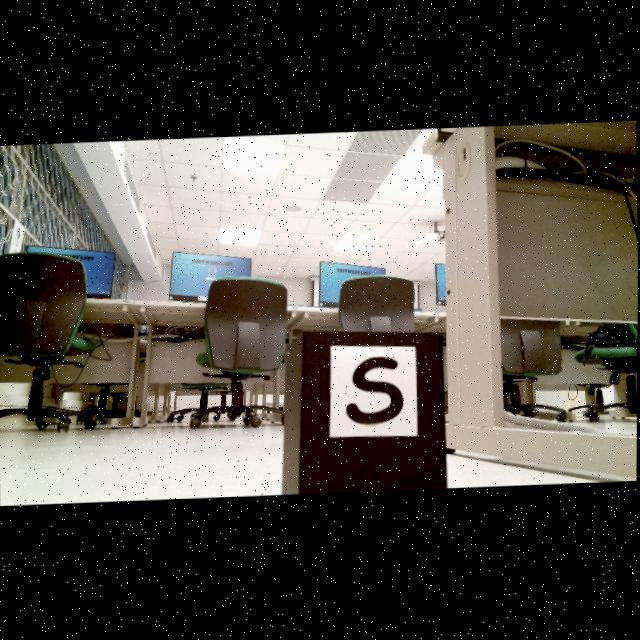S: (346, 359, 404, 427)
